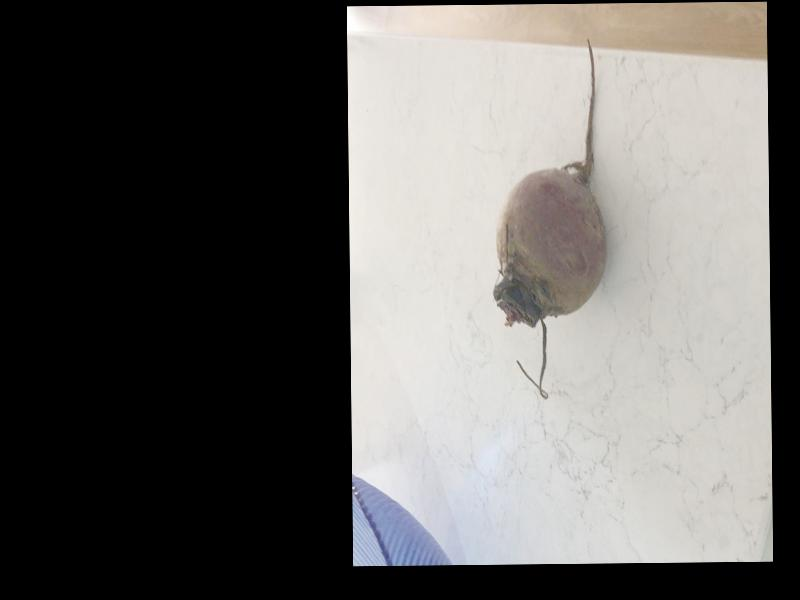Beet: (492, 34, 607, 398)
